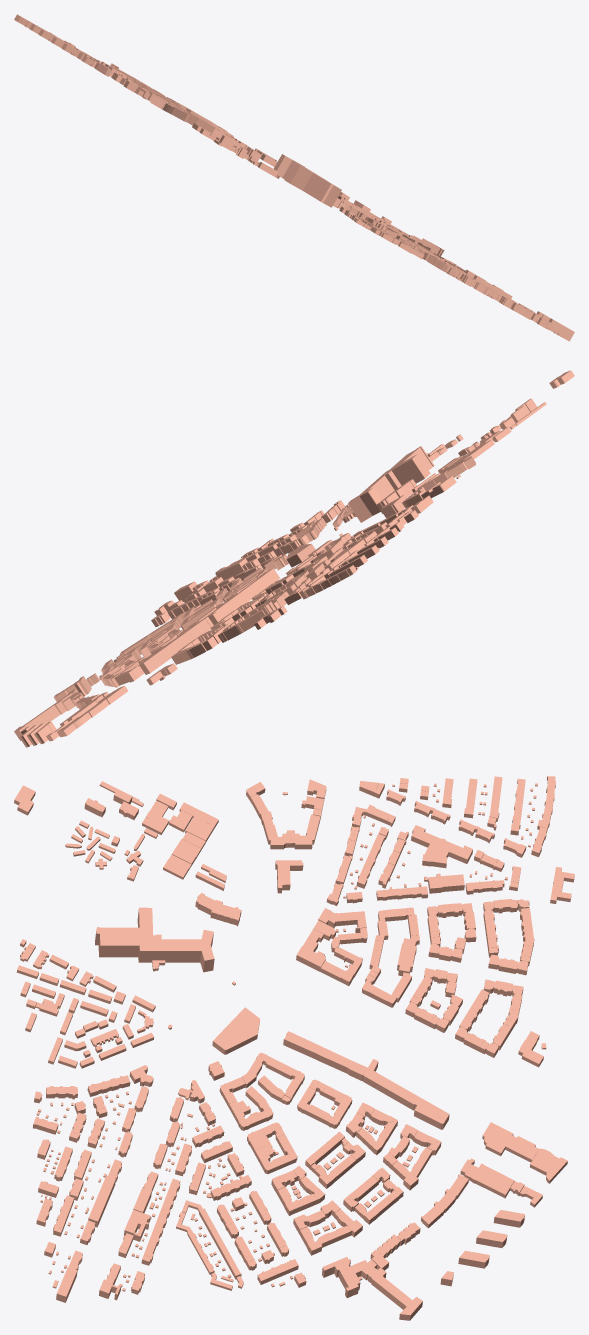
The picture shows the model from 3 angles, top to bottom: view 1: azimuth 30°, elevation 25°; view 2: azimuth 150°, elevation 25°; view 3: azimuth 270°, elevation 25°; orthographic projection. The views are drawn at different scales.
Size of the model in its own units: 539 by 410 by 603.
